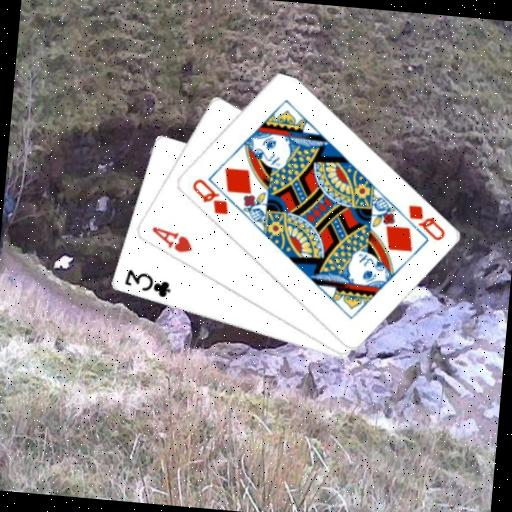3C: (120, 266, 173, 300)
AH: (147, 224, 196, 256)
QD: (402, 201, 449, 244), (186, 174, 232, 217)
